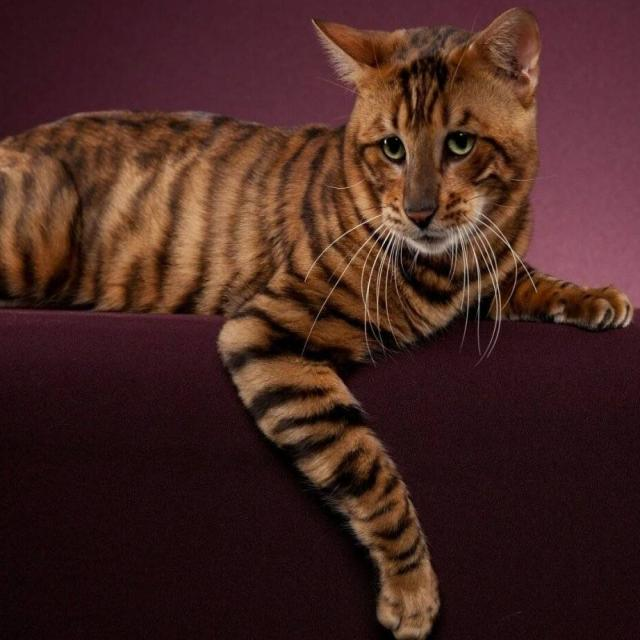Toyger: (0, 0, 637, 640)
